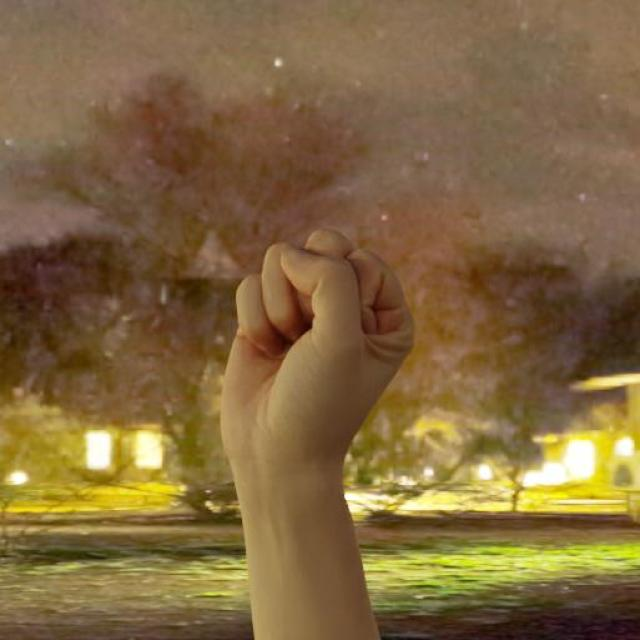S: (215, 223, 426, 477)
